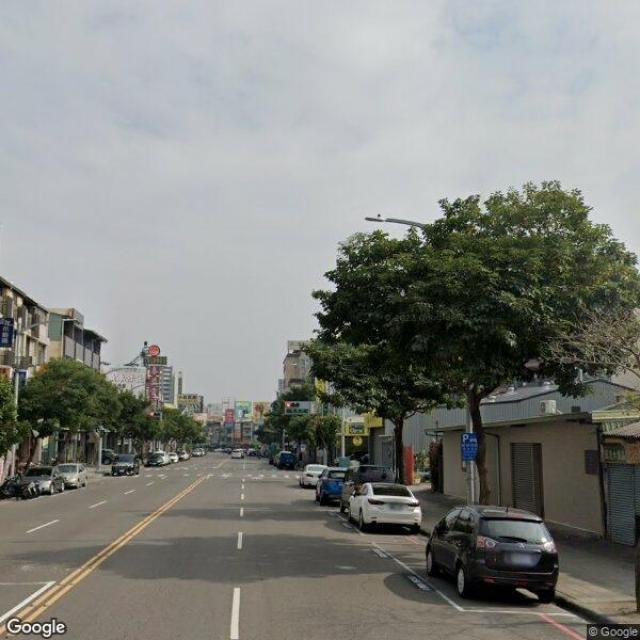illegalparking: (423, 518, 570, 614)
